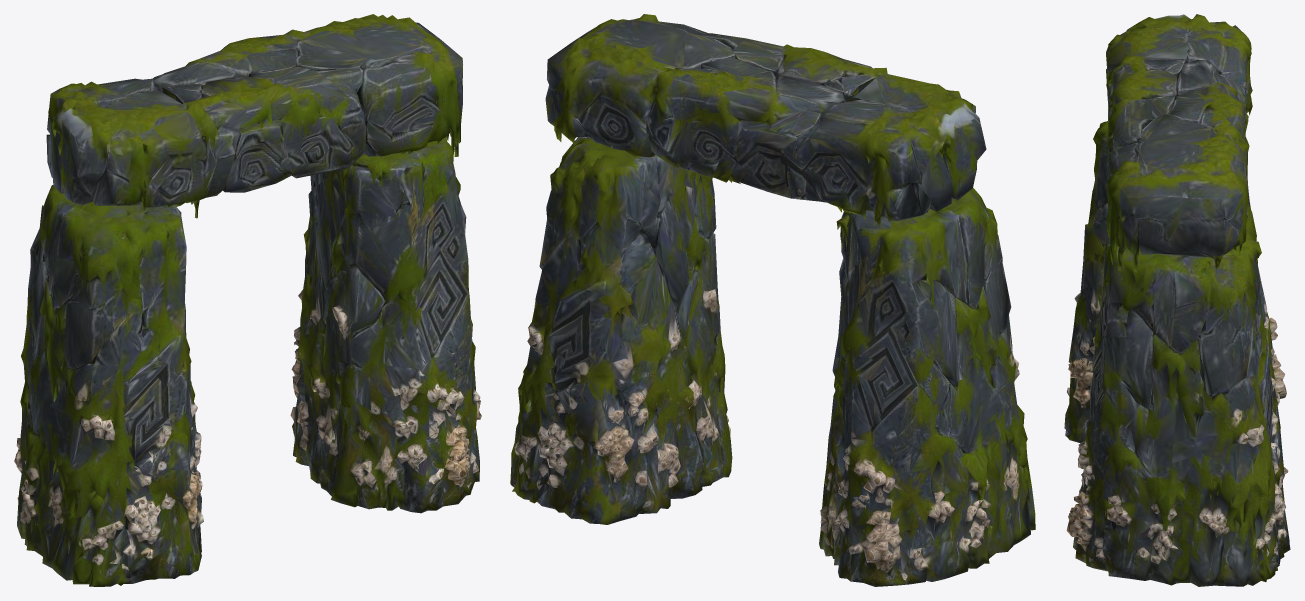
Rendered from ocean_stonehenge.glb.
The picture shows the model from 3 angles, left to right: view 1: azimuth 30°, elevation 25°; view 2: azimuth 150°, elevation 25°; view 3: azimuth 270°, elevation 25°; orthographic projection. The views are drawn at different scales.
Parts seen in each view (by area): view 1: Model; view 2: Model; view 3: Model.
Boxes of the visible parts, box(x1,y1,x2,y2) form: Model: box(14, 14, 481, 586); Model: box(510, 14, 1035, 586); Model: box(1064, 14, 1290, 586).
Bounding box in the file's own units: 44 × 41.6 × 21.37.
1 material, 1 textured.
